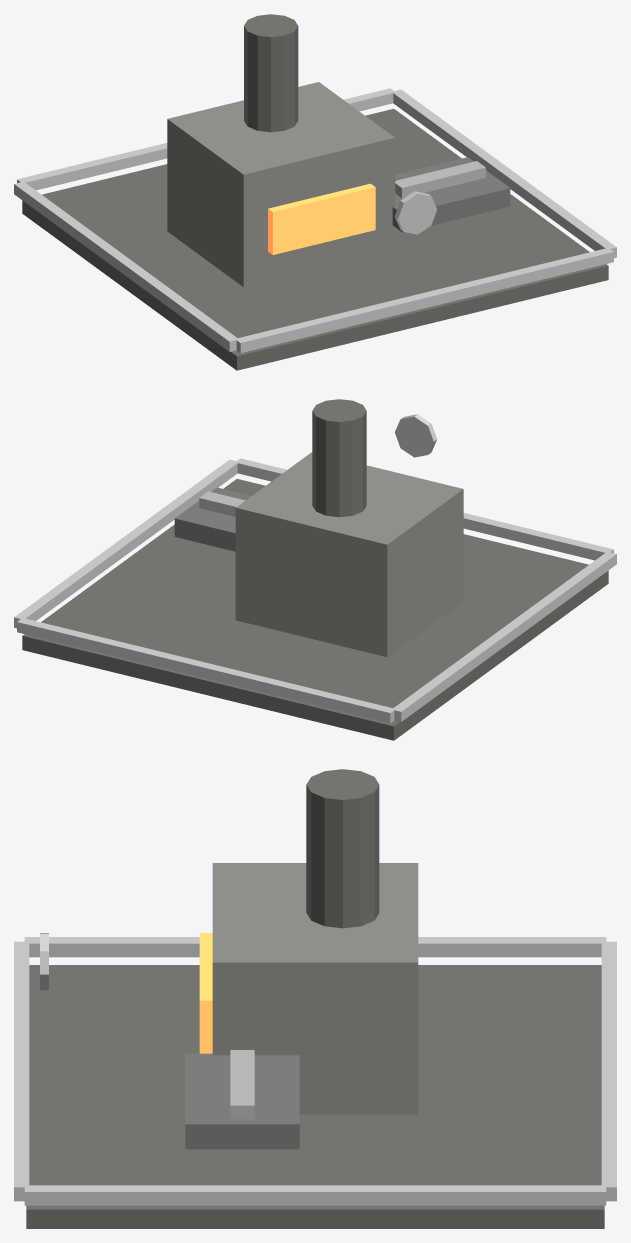
Rendered from t1_smelter.glb.
3 views of the same model, one above another, from view 1: azimuth 30°, elevation 25°; view 2: azimuth 150°, elevation 25°; view 3: azimuth 270°, elevation 25° (orthographic). The views are drawn at different scales.
Visible parts, largest first — view 1: FootprintBase, FurnaceBody, Chimney, TierFrontTrim, HearthGlow, TierLeftTrim, TierRightTrim, IngotTray, TierBackTrim, TierEmblem, Ingot, Ingot.002; view 2: FootprintBase, FurnaceBody, Chimney, TierBackTrim, TierLeftTrim, TierRightTrim, TierFrontTrim, IngotTray, TierEmblem, Ingot.003; view 3: FootprintBase, FurnaceBody, TierRightTrim, Chimney, IngotTray, TierLeftTrim, TierBackTrim, TierFrontTrim, HearthGlow, Ingot.003.
Part boxes in pixels (x1=…): FootprintBase: x1=22, y1=108, x2=608, y2=370; FurnaceBody: x1=167, y1=82, x2=395, y2=287; Chimney: x1=244, y1=14, x2=298, y2=132; TierFrontTrim: x1=235, y1=248, x2=613, y2=353; HearthGlow: x1=268, y1=183, x2=375, y2=254; TierLeftTrim: x1=14, y1=182, x2=238, y2=351; TierRightTrim: x1=393, y1=89, x2=616, y2=258; IngotTray: x1=392, y1=157, x2=510, y2=232; TierBackTrim: x1=17, y1=88, x2=395, y2=190; TierEmblem: x1=395, y1=191, x2=436, y2=234; Ingot: x1=395, y1=174, x2=433, y2=198; Ingot.002: x1=437, y1=165, x2=468, y2=189; FootprintBase: x1=22, y1=479, x2=608, y2=740; FurnaceBody: x1=235, y1=452, x2=463, y2=657; Chimney: x1=312, y1=399, x2=366, y2=517; TierBackTrim: x1=17, y1=618, x2=395, y2=723; TierLeftTrim: x1=392, y1=551, x2=616, y2=721; TierRightTrim: x1=14, y1=459, x2=238, y2=628; TierFrontTrim: x1=235, y1=458, x2=613, y2=560; IngotTray: x1=174, y1=487, x2=251, y2=551; TierEmblem: x1=395, y1=414, x2=437, y2=457; Ingot.003: x1=199, y1=491, x2=238, y2=515; FootprintBase: x1=26, y1=965, x2=604, y2=1228; FurnaceBody: x1=212, y1=863, x2=418, y2=1114; TierRightTrim: x1=24, y1=1185, x2=606, y2=1205; Chimney: x1=306, y1=769, x2=379, y2=928; IngotTray: x1=185, y1=1053, x2=299, y2=1149; TierLeftTrim: x1=24, y1=937, x2=606, y2=957; TierBackTrim: x1=601, y1=941, x2=616, y2=1201; TierFrontTrim: x1=14, y1=941, x2=29, y2=1201; HearthGlow: x1=199, y1=933, x2=212, y2=1053; Ingot.003: x1=230, y1=1085, x2=254, y2=1119.
Bounding box in the file's own units: 3.96 × 2.17 × 3.96.
